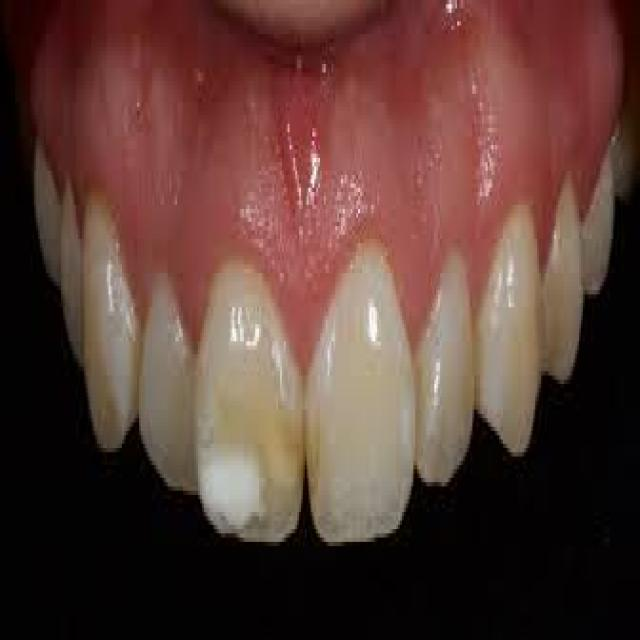Tooth Discoloration: (184, 433, 266, 544)
